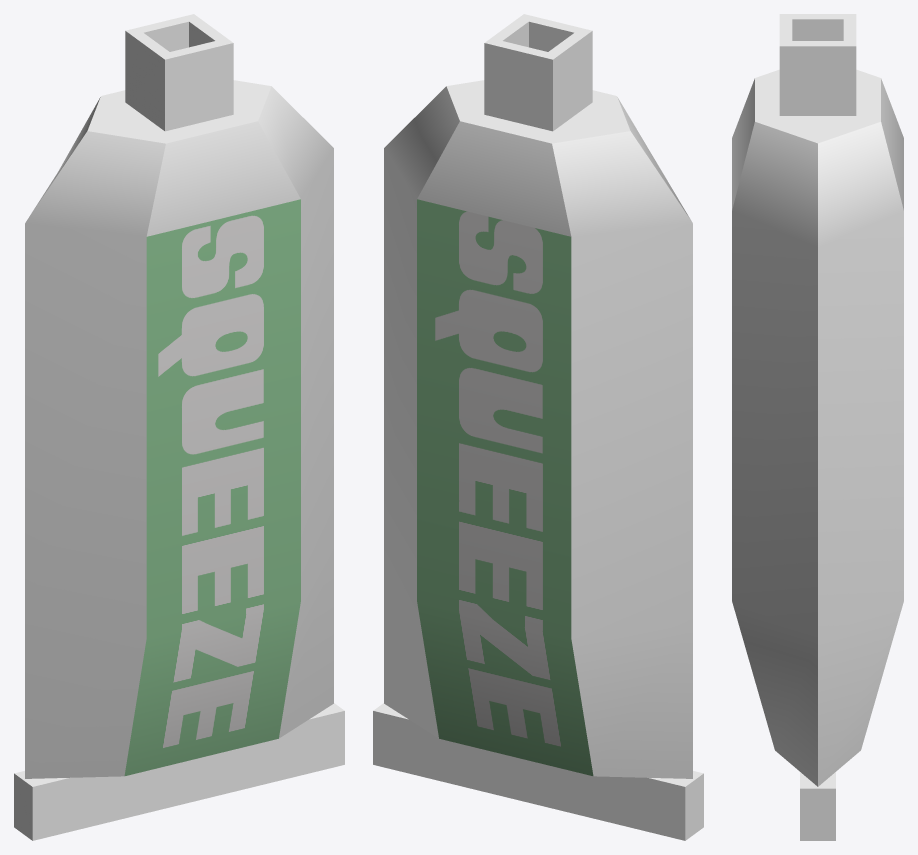
File: toothpaste_tube_v5.fbx
3 renders of one model, left to right at view 1: azimuth 30°, elevation 25°; view 2: azimuth 150°, elevation 25°; view 3: azimuth 270°, elevation 25°, orthographic. The views are drawn at different scales.
Visible parts, largest first — view 1: Toothpaste_Tube, pCube2, pCube3; view 2: Toothpaste_Tube, pCube2, pCube3; view 3: Toothpaste_Tube, pCube3, pCube2.
Boxes of the visible parts, x1,y1,x2,y2 form: Toothpaste_Tube: (25, 80, 333, 778); pCube2: (14, 703, 344, 840); pCube3: (125, 14, 233, 131); Toothpaste_Tube: (384, 80, 692, 778); pCube2: (373, 703, 703, 840); pCube3: (484, 14, 592, 131); Toothpaste_Tube: (732, 69, 903, 786); pCube3: (779, 14, 856, 115); pCube2: (800, 772, 835, 840).
Bounding box in the file's own units: 8.44 × 19.61 × 4.15.
Materials: 1 (1 with a texture image).
